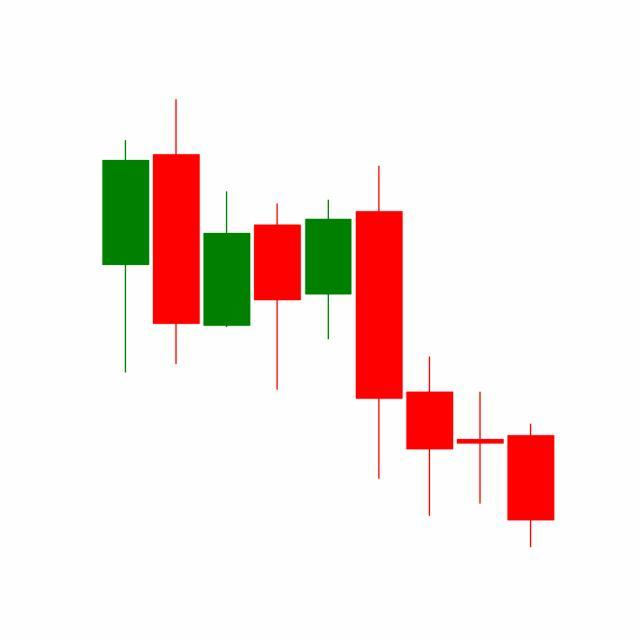Hikkake Pattern: (302, 162, 555, 549)
